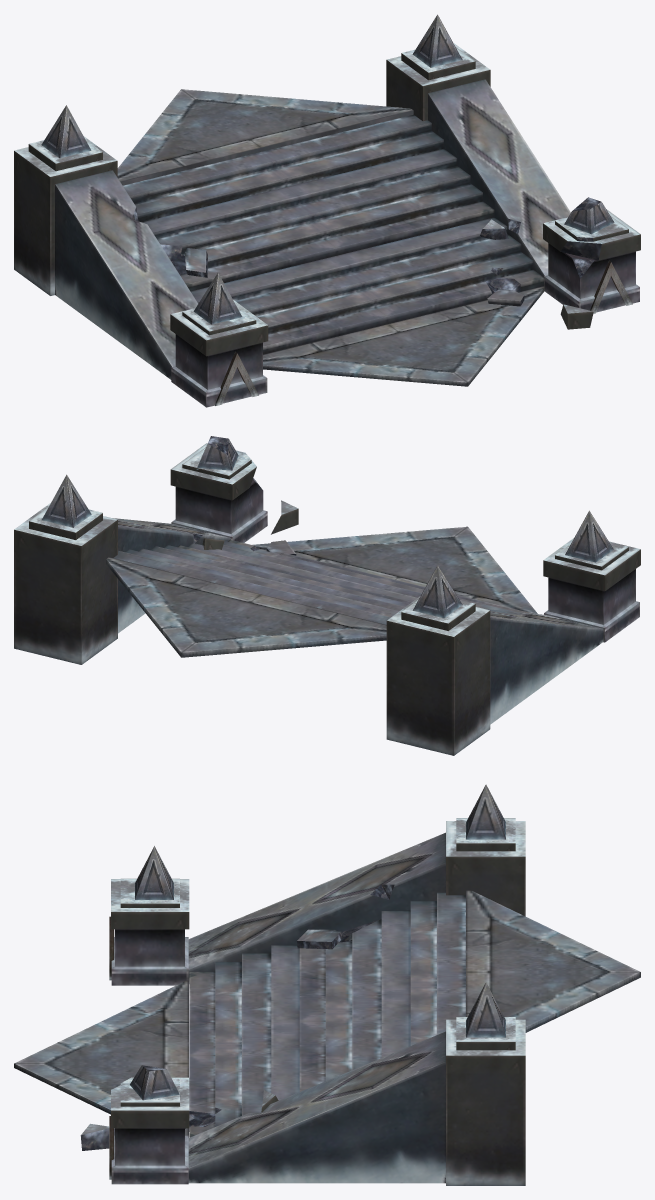
File: yw_anxizhidi_louti.FBX
3 views of the same model, one above another, from view 1: azimuth 30°, elevation 25°; view 2: azimuth 150°, elevation 25°; view 3: azimuth 270°, elevation 25° (orthographic). The views are drawn at different scales.
Parts seen in each view (by area): view 1: yw_anxizhidi_louti; view 2: yw_anxizhidi_louti; view 3: yw_anxizhidi_louti.
Boxes of the visible parts, x1,y1,x2,y2 form: yw_anxizhidi_louti: (14, 14, 640, 407); yw_anxizhidi_louti: (14, 436, 640, 755); yw_anxizhidi_louti: (14, 784, 640, 1185).
Bounding box in the file's own units: 713 × 264 × 804.
